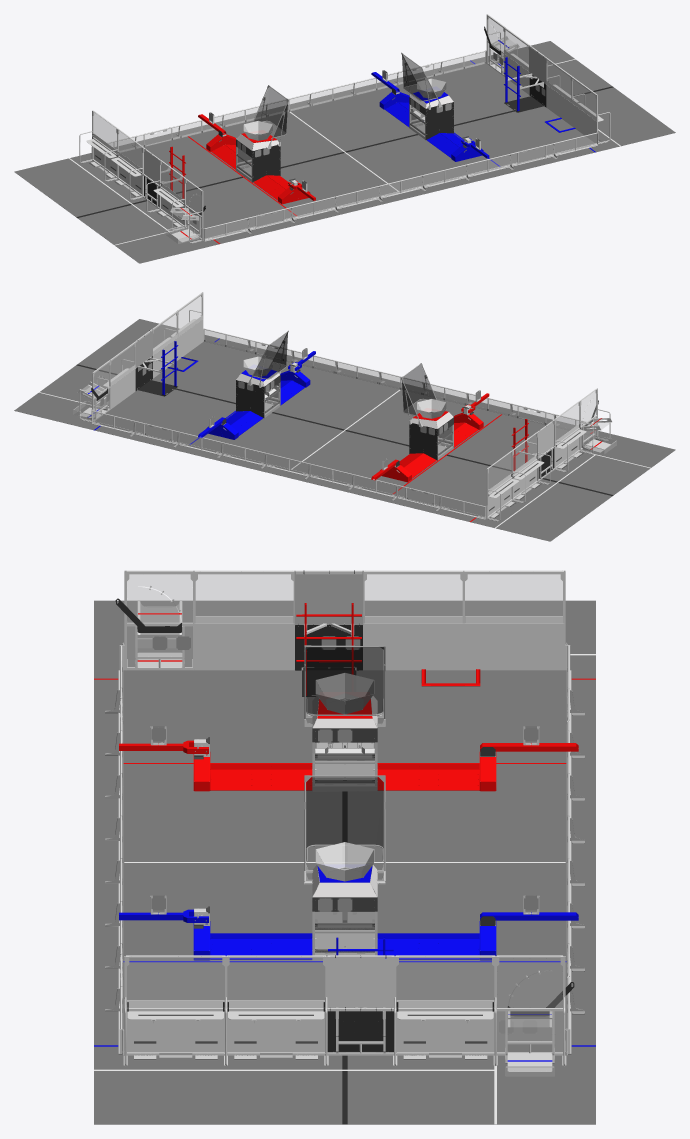
File: field-2026.glb
3 renders of one model, top to bottom at view 1: azimuth 30°, elevation 25°; view 2: azimuth 150°, elevation 25°; view 3: azimuth 270°, elevation 25°, orthographic. The views are drawn at different scales.
Visible parts, largest first — view 1: field|0.216,0.216,0.216,1.000, field|0.791,0.791,0.791,0.200, field|0.791,0.791,0.791,1.000, field|1.000,0.000,0.000,1.000, field|0.000,0.000,1.000,1.000, field|0.030,0.030,0.030,1.000, field|1.000,1.000,1.000,1.000, GE-26300: Hub <1>|0.000,0.000,0.000,0.250, GE-26300: Hub <1>|0.030,0.030,0.030,1.000, GE-26300: Hub <2>|0.000,0.000,0.000,0.250, GE-26300: Hub <2>|0.030,0.030,0.030,1.000, field|0.823,0.823,0.823,1.000 (+7 smaller); view 2: field|0.216,0.216,0.216,1.000, field|0.791,0.791,0.791,0.200, field|0.791,0.791,0.791,1.000, field|1.000,0.000,0.000,1.000, field|0.000,0.000,1.000,1.000, field|0.030,0.030,0.030,1.000, field|1.000,1.000,1.000,1.000, GE-26300: Hub <1>|0.000,0.000,0.000,0.250, GE-26300: Hub <1>|0.030,0.030,0.030,1.000, GE-26300: Hub <2>|0.000,0.000,0.000,0.250, GE-26300: Hub <2>|0.030,0.030,0.030,1.000, field|0.823,0.823,0.823,1.000 (+7 smaller); view 3: field|0.216,0.216,0.216,1.000, field|0.791,0.791,0.791,1.000, field|0.791,0.791,0.791,0.200, field|1.000,0.000,0.000,1.000, field|0.000,0.000,1.000,1.000, field|0.030,0.030,0.030,1.000, field|1.000,1.000,1.000,1.000, GE-26300: Hub <1>|0.000,0.000,0.000,0.250, GE-26300: Hub <2>|0.000,0.000,0.000,0.250, field|0.030,0.030,0.030,0.200, GE-26300: Hub <1>|0.451,0.451,0.451,1.000, GE-26300: Hub <2>|0.791,0.791,0.791,0.200 (+12 smaller).
Boxes of the visible parts, box(x1,y1,x2,y2) form: field|0.216,0.216,0.216,1.000: box(14, 41, 675, 263); field|0.791,0.791,0.791,0.200: box(94, 16, 596, 243); field|0.791,0.791,0.791,1.000: box(79, 14, 610, 243); field|1.000,0.000,0.000,1.000: box(169, 114, 315, 243); field|0.000,0.000,1.000,1.000: box(371, 40, 595, 166); field|0.030,0.030,0.030,1.000: box(76, 27, 613, 217); field|1.000,1.000,1.000,1.000: box(69, 50, 620, 245); GE-26300: Hub <1>|0.000,0.000,0.000,0.250: box(254, 87, 287, 137); GE-26300: Hub <1>|0.030,0.030,0.030,1.000: box(238, 144, 280, 182); GE-26300: Hub <2>|0.000,0.000,0.000,0.250: box(402, 54, 436, 100); GE-26300: Hub <2>|0.030,0.030,0.030,1.000: box(409, 102, 453, 139); field|0.823,0.823,0.823,1.000: box(86, 53, 603, 207); field|0.216,0.216,0.216,1.000: box(14, 319, 675, 541); field|0.791,0.791,0.791,0.200: box(73, 295, 616, 516); field|0.791,0.791,0.791,1.000: box(77, 292, 611, 521); field|1.000,0.000,0.000,1.000: box(371, 393, 601, 521); field|0.000,0.000,1.000,1.000: box(88, 338, 315, 444); field|0.030,0.030,0.030,1.000: box(76, 330, 613, 496); field|1.000,1.000,1.000,1.000: box(39, 315, 650, 528); GE-26300: Hub <1>|0.000,0.000,0.000,0.250: box(402, 365, 435, 415); GE-26300: Hub <1>|0.030,0.030,0.030,1.000: box(409, 423, 451, 460); GE-26300: Hub <2>|0.000,0.000,0.000,0.250: box(253, 332, 287, 378); GE-26300: Hub <2>|0.030,0.030,0.030,1.000: box(236, 380, 280, 417); field|0.823,0.823,0.823,1.000: box(103, 319, 586, 497); field|0.216,0.216,0.216,1.000: box(94, 600, 595, 1124); field|0.791,0.791,0.791,1.000: box(118, 570, 571, 1071); field|0.791,0.791,0.791,0.200: box(122, 572, 567, 1076); field|1.000,0.000,0.000,1.000: box(94, 603, 595, 791); field|0.000,0.000,1.000,1.000: box(94, 909, 595, 1061); field|0.030,0.030,0.030,1.000: box(117, 570, 574, 1124); field|1.000,1.000,1.000,1.000: box(94, 616, 595, 1124); GE-26300: Hub <1>|0.000,0.000,0.000,0.250: box(306, 647, 383, 714); GE-26300: Hub <2>|0.000,0.000,0.000,0.250: box(306, 777, 383, 847); field|0.030,0.030,0.030,0.200: box(295, 572, 362, 624); GE-26300: Hub <1>|0.451,0.451,0.451,1.000: box(304, 645, 385, 790); GE-26300: Hub <2>|0.791,0.791,0.791,0.200: box(312, 912, 377, 960).
Size of the model in its own units: 22.56 by 3.06 by 9.14.
